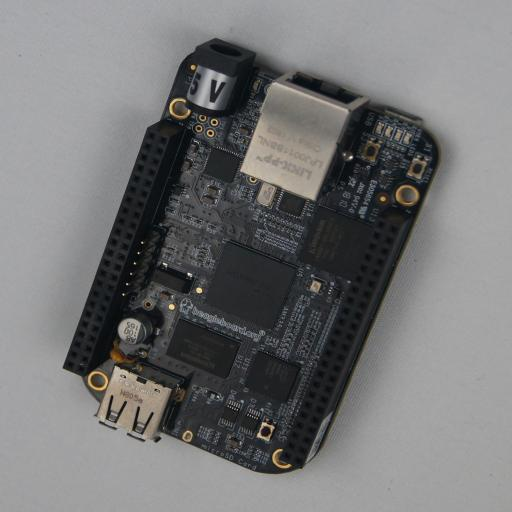Beaglebone Black: (62, 38, 442, 474)
